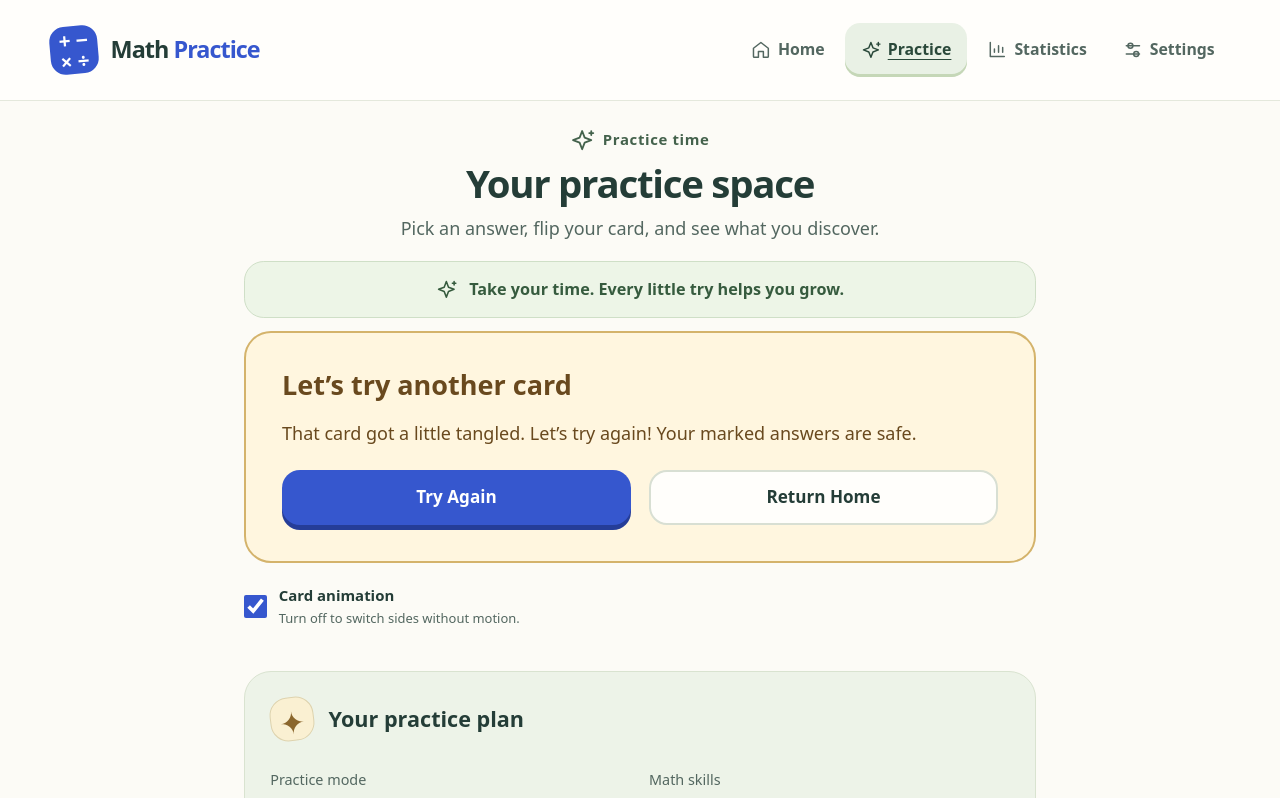
it: a stored generation-error string is never shown as raw technical details
Expected: the message that starts with "Let’s try another card" shows "That card got a little tangled", [282,420,917,444]
Click the link "Return Home". click: {"x": 824, "y": 497}
box: [649,470,998,525]
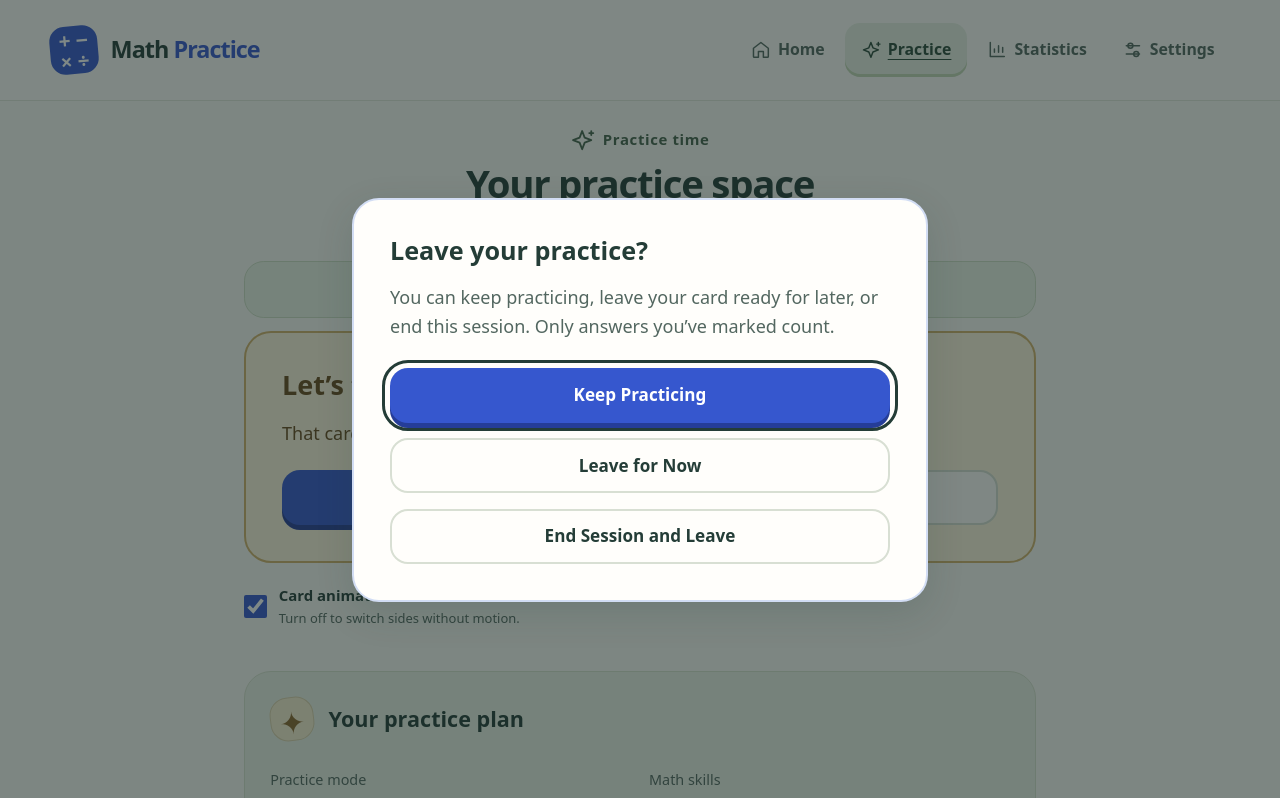
Click the button "Leave for Now". click: {"x": 640, "y": 466}
box: [390,438,890,493]
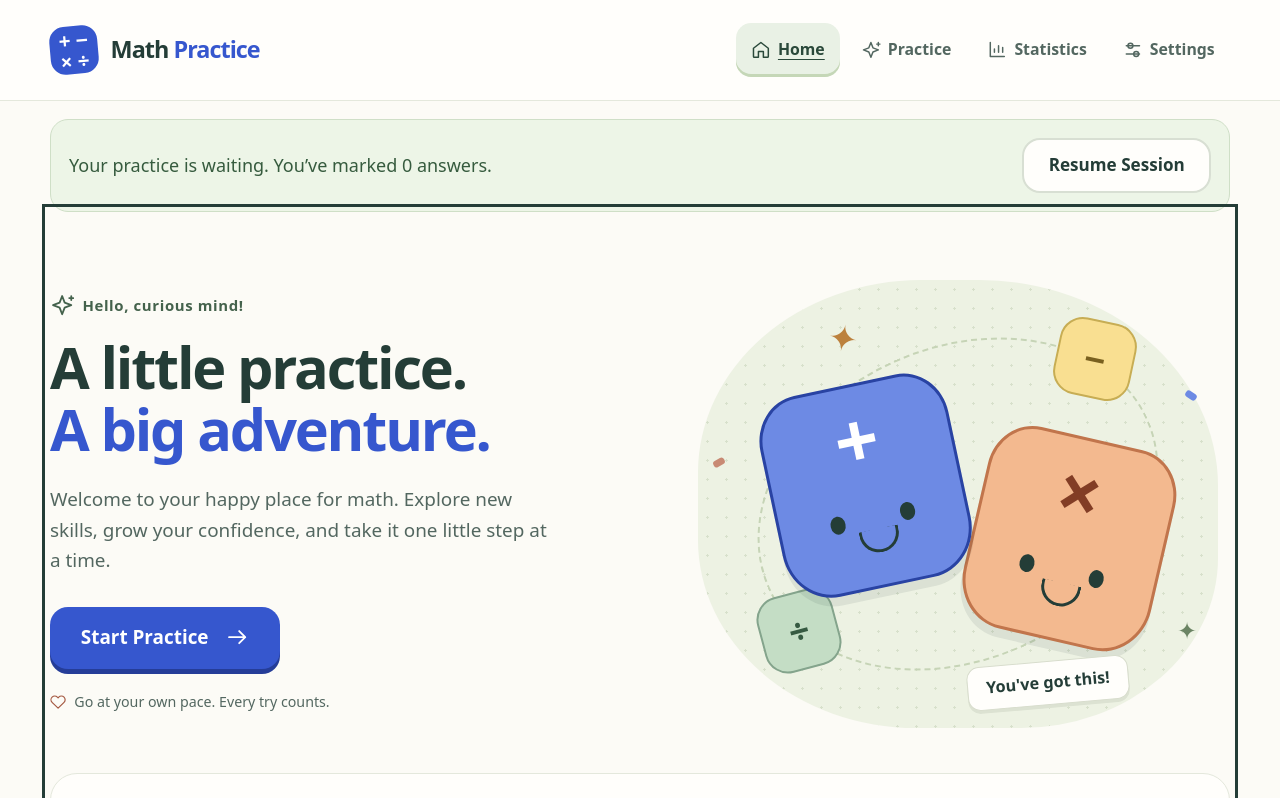
Expected: the link "Start Practice" is shown, [50,607,280,669]
Expected: the link "Resume Session" is shown, [1022,138,1211,193]
